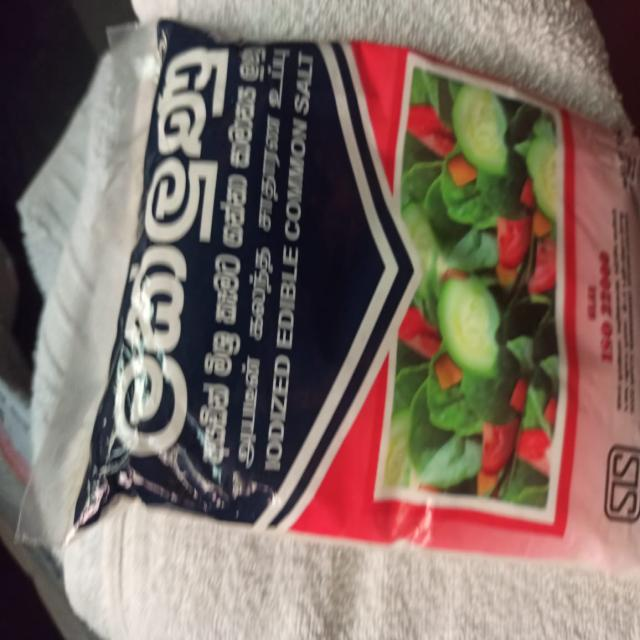Lak Lunu: (114, 7, 640, 635)
